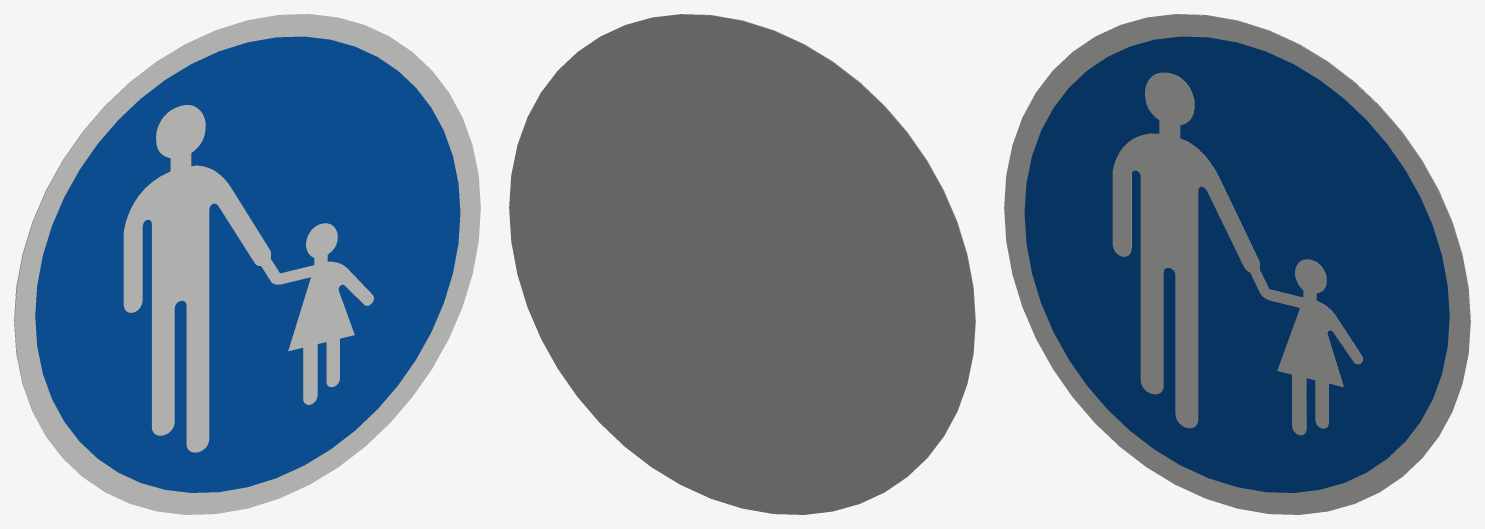
The picture shows the model from 3 angles, left to right: view 1: azimuth 30°, elevation 25°; view 2: azimuth 150°, elevation 25°; view 3: azimuth 330°, elevation 25°; orthographic projection.
Parts seen in each view (by area): view 1: B22b_p01, B22b_p00, B22b_p02, B22b_dos; view 2: B22b_dos, B22b_p00; view 3: B22b_p01, B22b_p00, B22b_p02, B22b_dos.
Part boxes in pixels (<box>): B22b_p01: <box>35,36,460,492</box>; B22b_p00: <box>14,14,480,514</box>; B22b_p02: <box>123,105,373,452</box>; B22b_dos: <box>14,14,385,473</box>; B22b_dos: <box>509,14,975,514</box>; B22b_p00: <box>604,14,975,473</box>; B22b_p01: <box>1024,36,1449,492</box>; B22b_p00: <box>1004,14,1470,514</box>; B22b_p02: <box>1112,72,1362,435</box>; B22b_dos: <box>1099,14,1470,473</box>.
Size of the model in its own units: 0.85 by 0.8498 by 0.0027.
